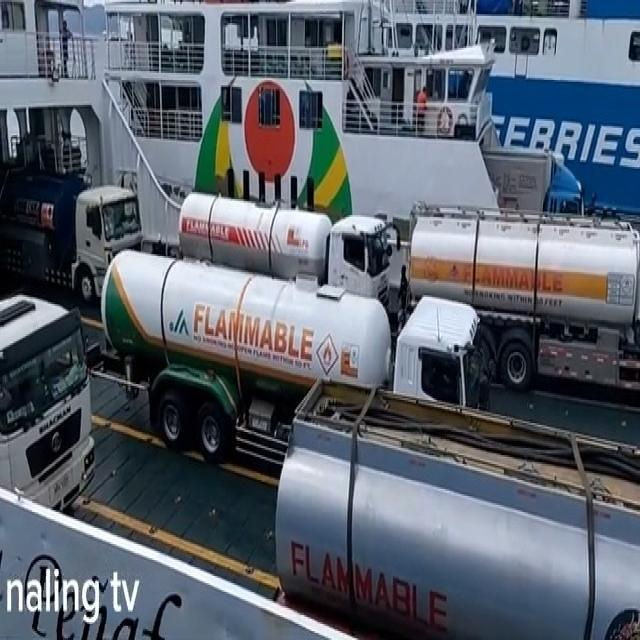truck: (94, 250, 493, 498), (276, 378, 640, 640), (177, 194, 391, 342), (0, 290, 99, 516), (4, 165, 143, 305)
